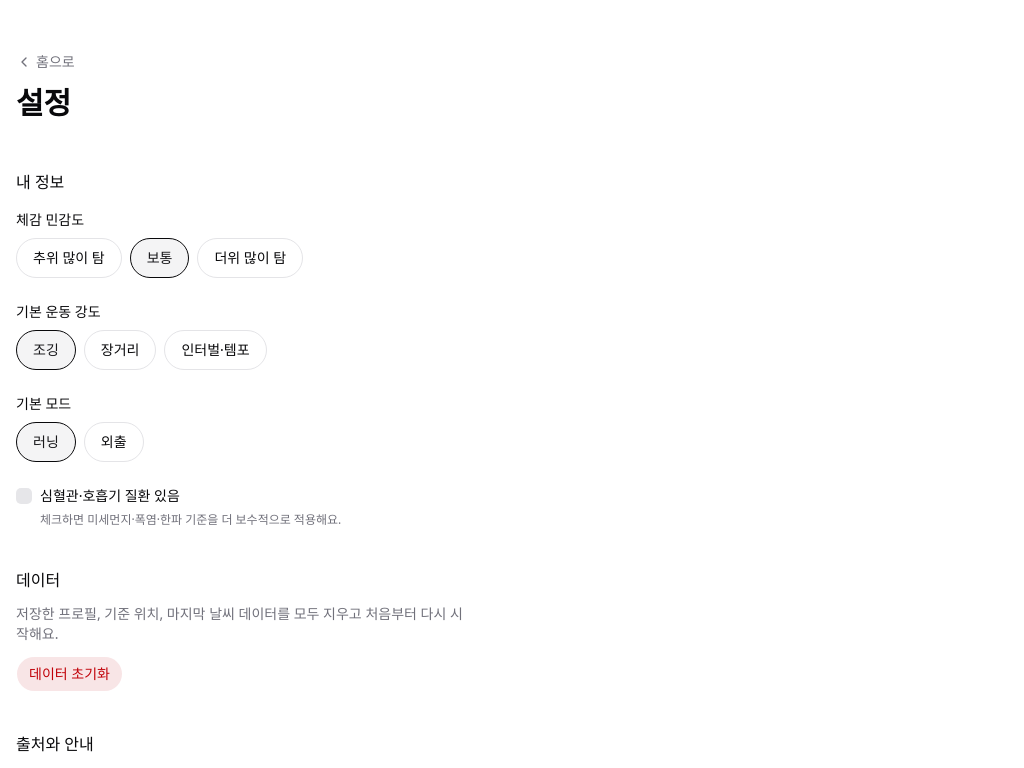
Test: SettingsScreen: 데이터 초기화 › 취소하면 데이터가 그대로 남는다
The width and height of the screenshot is (1024, 768).
Click the button "데이터 초기화".
click(69, 674)  # box [16, 656, 123, 692]
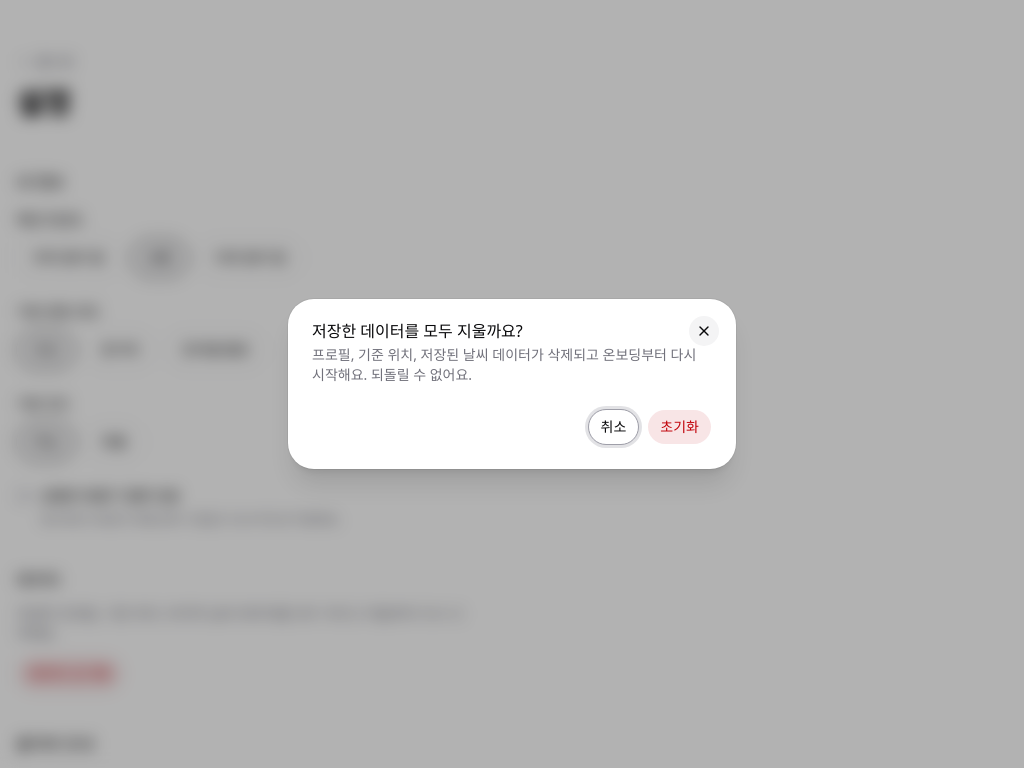
Click the button "취소".
click(614, 427)  # box [588, 409, 639, 445]
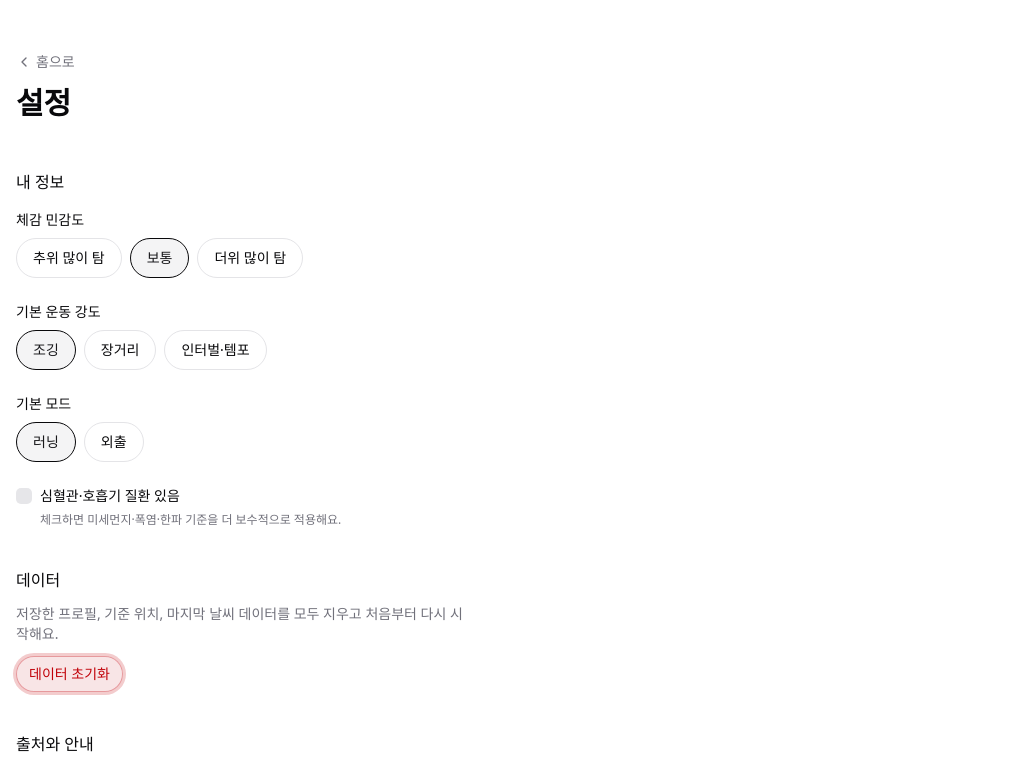
Expected: the dialog is gone
